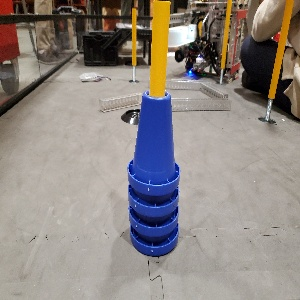Blue_4: (126, 91, 181, 257)
